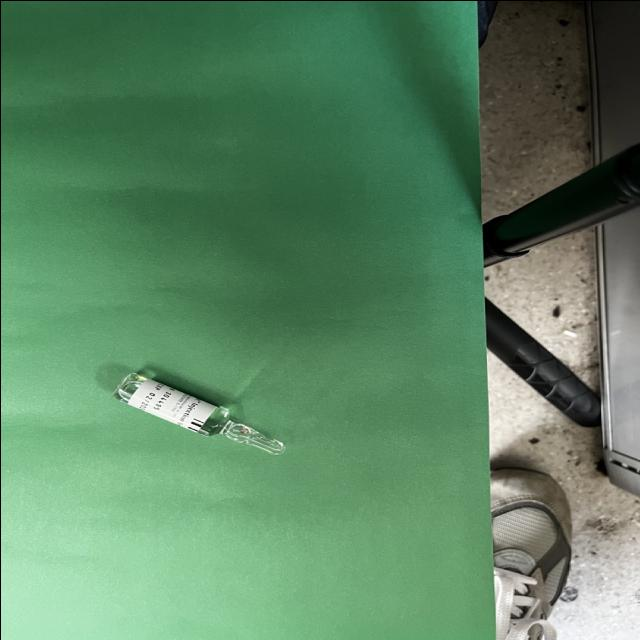Ampoules: (111, 371, 285, 454)
